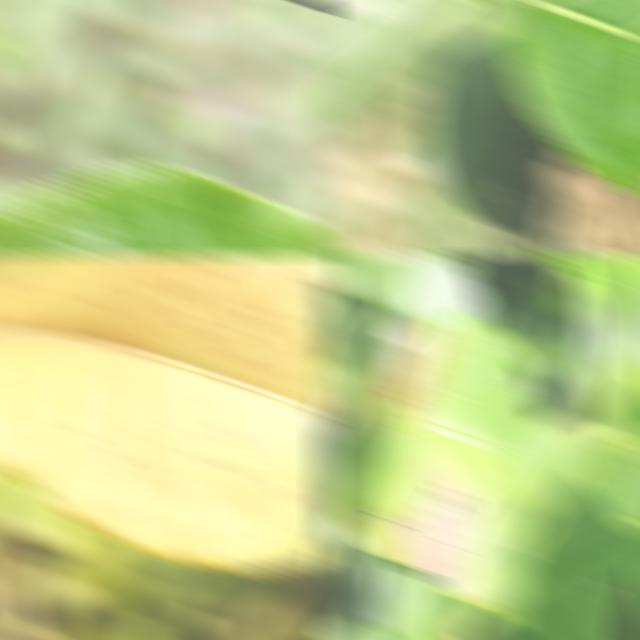Leaf: (0, 254, 334, 574), (337, 313, 544, 605), (397, 0, 573, 258), (0, 163, 334, 258), (492, 443, 640, 640), (495, 0, 640, 199), (318, 0, 480, 162), (544, 254, 640, 442), (374, 559, 471, 640), (398, 254, 489, 327), (344, 254, 416, 313)
